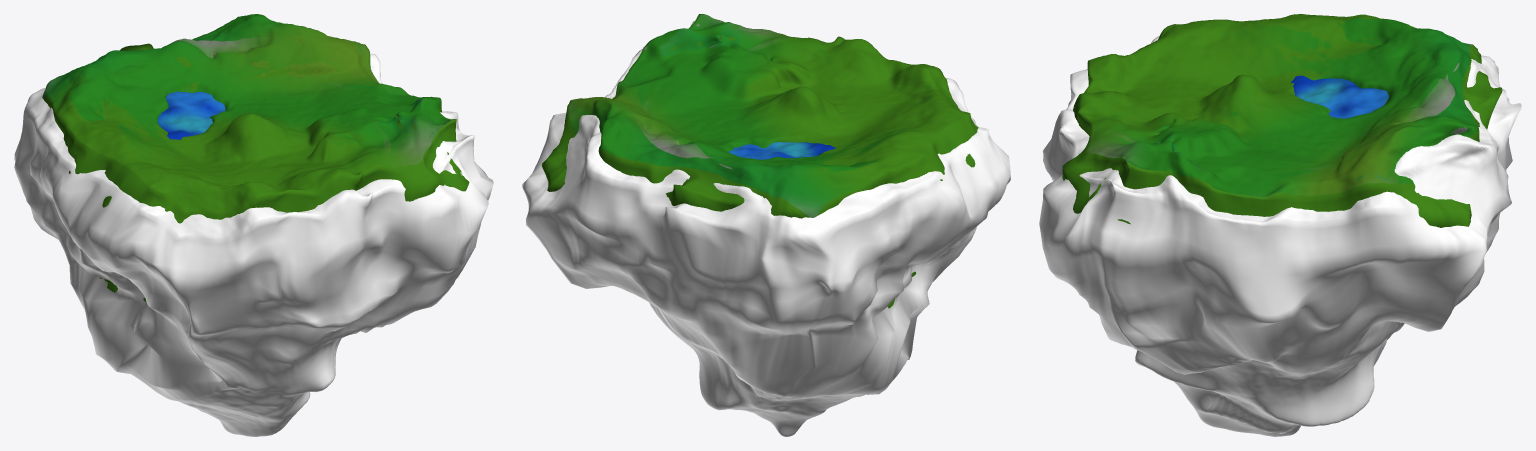
File: LAND.glb
3 views of the same model, side by side, from view 1: azimuth 30°, elevation 25°; view 2: azimuth 150°, elevation 25°; view 3: azimuth 270°, elevation 25° (orthographic). The views are drawn at different scales.
Visible parts, largest first — view 1: Plane.001, Plane, Plane.002; view 2: Plane.001, Plane, Plane.002; view 3: Plane.001, Plane, Plane.002.
Boxes of the visible parts, <box> form: Plane.001: <box>14,53,493,436</box>; Plane: <box>42,14,469,302</box>; Plane.002: <box>157,91,225,139</box>; Plane.001: <box>522,21,1010,436</box>; Plane: <box>541,14,978,308</box>; Plane.002: <box>728,142,836,159</box>; Plane.001: <box>1039,36,1521,436</box>; Plane: <box>1062,14,1502,227</box>; Plane.002: <box>1290,75,1388,118</box>.
Bounding box in the file's own units: 176 × 151 × 176.
3 materials, 2 textured.
